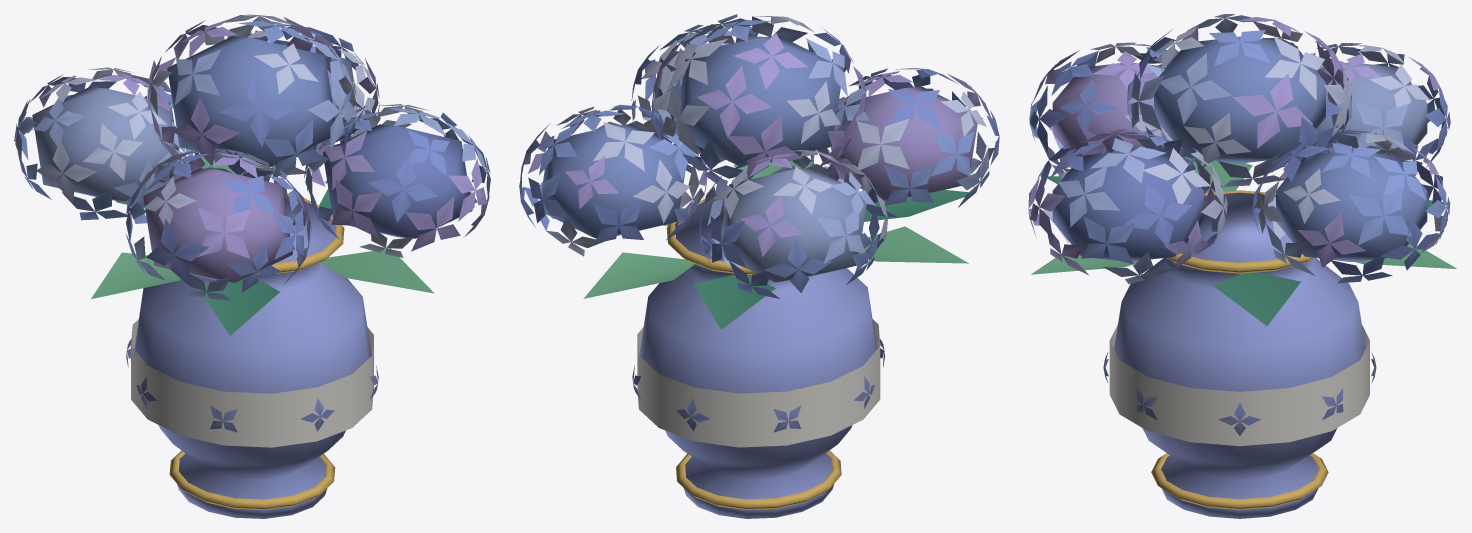
The model's file is vase_hydrangea_blue.glb.
3 views of the same model, side by side, from view 1: azimuth 30°, elevation 25°; view 2: azimuth 150°, elevation 25°; view 3: azimuth 270°, elevation 25° (orthographic).
Visible parts, largest first — view 1: vase_hydrangea_blue; view 2: vase_hydrangea_blue; view 3: vase_hydrangea_blue.
Part boxes in pixels (left/top/right/bottom): vase_hydrangea_blue: left=14, top=14, right=490, bottom=518; vase_hydrangea_blue: left=519, top=14, right=999, bottom=518; vase_hydrangea_blue: left=1028, top=14, right=1456, bottom=518.
Size of what is drawn, in the model's own units: 0.55 by 0.65 by 0.55.
